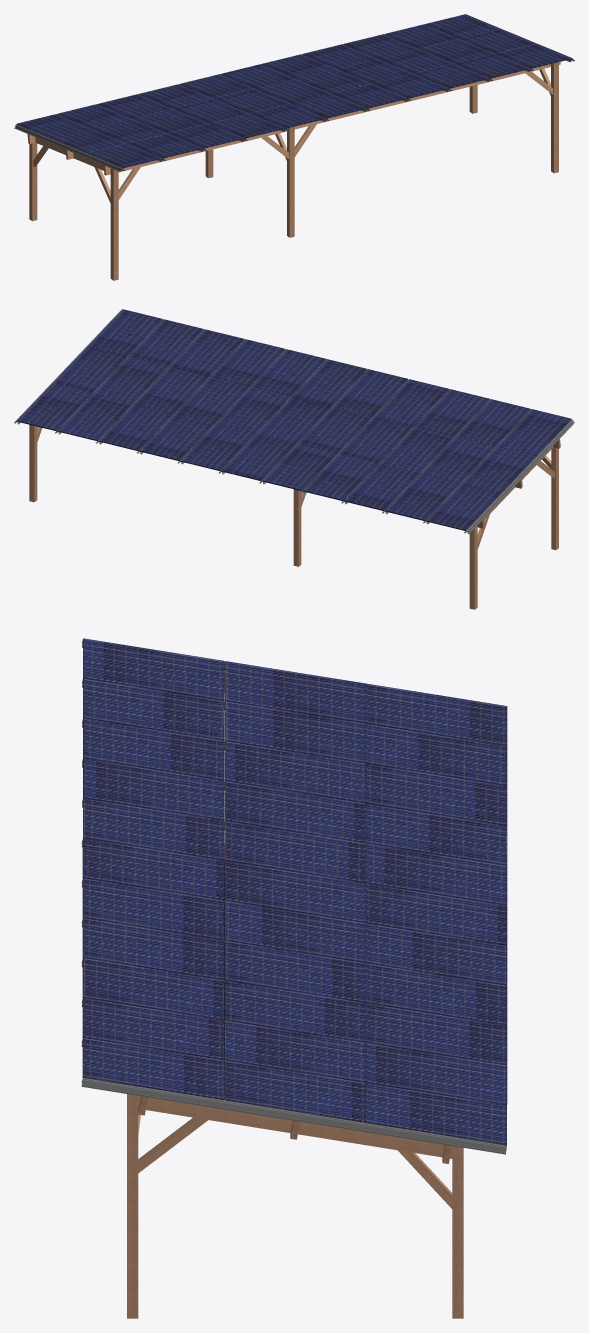
Rendered from tossoeasy-sp.glb.
The picture shows the model from 3 angles, top to bottom: view 1: azimuth 30°, elevation 25°; view 2: azimuth 150°, elevation 25°; view 3: azimuth 270°, elevation 25°; orthographic projection. The views are drawn at different scales.
Parts seen in each view (by area): view 1: paneauxsolaire_18, paneauxsolaire_6, paneauxsolaire_24, paneauxsolaire_40, paneauxsolaire_2, paneauxsolaire_11, paneauxsolaire_17, paneauxsolaire_26, paneauxsolaire_35, paneauxsolaire_44, paneauxsolaire_29, paneauxsolaire_19 (+29 smaller); view 2: paneauxsolaire_4, paneauxsolaire_13, paneauxsolaire_12, paneauxsolaire_31, paneauxsolaire_32, paneauxsolaire_34, paneauxsolaire_36, paneauxsolaire_41, paneauxsolaire_38, paneauxsolaire_9, paneauxsolaire_7, paneauxsolaire_11 (+26 smaller); view 3: paneauxsolaire_44, paneauxsolaire_43, paneauxsolaire_41, paneauxsolaire_24, paneauxsolaire_40, paneauxsolaire_29, paneauxsolaire_35, paneauxsolaire_26, paneauxsolaire_6, paneauxsolaire_9, paneauxsolaire_11, paneauxsolaire_28 (+26 smaller).
Part boxes in pixels (x1,y1,x2,y2): paneauxsolaire_18: (87, 143, 162, 168); paneauxsolaire_6: (169, 123, 244, 148); paneauxsolaire_24: (292, 93, 367, 118); paneauxsolaire_40: (414, 63, 489, 88); paneauxsolaire_2: (251, 103, 326, 128); paneauxsolaire_11: (210, 113, 285, 138); paneauxsolaire_17: (128, 133, 203, 158); paneauxsolaire_26: (373, 73, 448, 98); paneauxsolaire_35: (455, 53, 530, 78); paneauxsolaire_44: (496, 43, 571, 68); paneauxsolaire_29: (333, 83, 407, 108); paneauxsolaire_19: (52, 128, 126, 153); paneauxsolaire_4: (303, 453, 378, 500); paneauxsolaire_13: (262, 443, 337, 490); paneauxsolaire_12: (344, 463, 419, 510); paneauxsolaire_31: (221, 433, 296, 480); paneauxsolaire_32: (98, 403, 173, 451); paneauxsolaire_34: (180, 423, 255, 470); paneauxsolaire_36: (139, 413, 214, 461); paneauxsolaire_41: (17, 383, 91, 431); paneauxsolaire_38: (57, 393, 132, 441); paneauxsolaire_9: (385, 473, 459, 520); paneauxsolaire_7: (425, 483, 500, 530); paneauxsolaire_11: (374, 379, 448, 426); paneauxsolaire_44: (82, 1037, 224, 1100); paneauxsolaire_43: (224, 1060, 365, 1122); paneauxsolaire_41: (365, 1082, 506, 1145); paneauxsolaire_24: (82, 838, 224, 900); paneauxsolaire_40: (82, 957, 224, 1019); paneauxsolaire_29: (82, 878, 224, 939); paneauxsolaire_35: (82, 997, 224, 1059); paneauxsolaire_26: (82, 917, 224, 979); paneauxsolaire_6: (83, 718, 224, 780); paneauxsolaire_9: (366, 723, 507, 785); paneauxsolaire_11: (83, 758, 224, 820); paneauxsolaire_28: (224, 900, 365, 962).
Size of the model in its own units: 12.92 by 3.31 by 5.23.
Materials: 4 (4 with a texture image).
